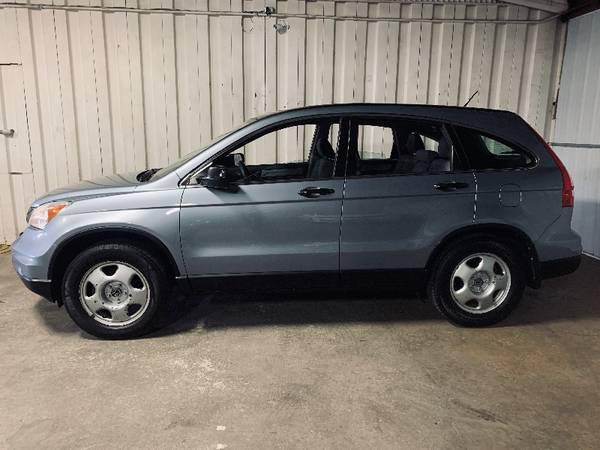Front_Bumper: (10, 228, 56, 300)
Front_Fender: (37, 189, 186, 277)
Front_Left_Door: (177, 178, 346, 280)
Front_Left_Window: (181, 114, 348, 184)
Left_Headlight: (23, 201, 69, 230)
Rear_Bumper: (536, 199, 582, 274)
Rear_Fender: (455, 123, 572, 245)
Rear_Left_Door: (338, 173, 474, 269)
Rear_Left_Window: (344, 115, 472, 178)
Roof: (169, 103, 563, 185)
Wheel: (58, 240, 166, 342), (434, 232, 531, 328)
